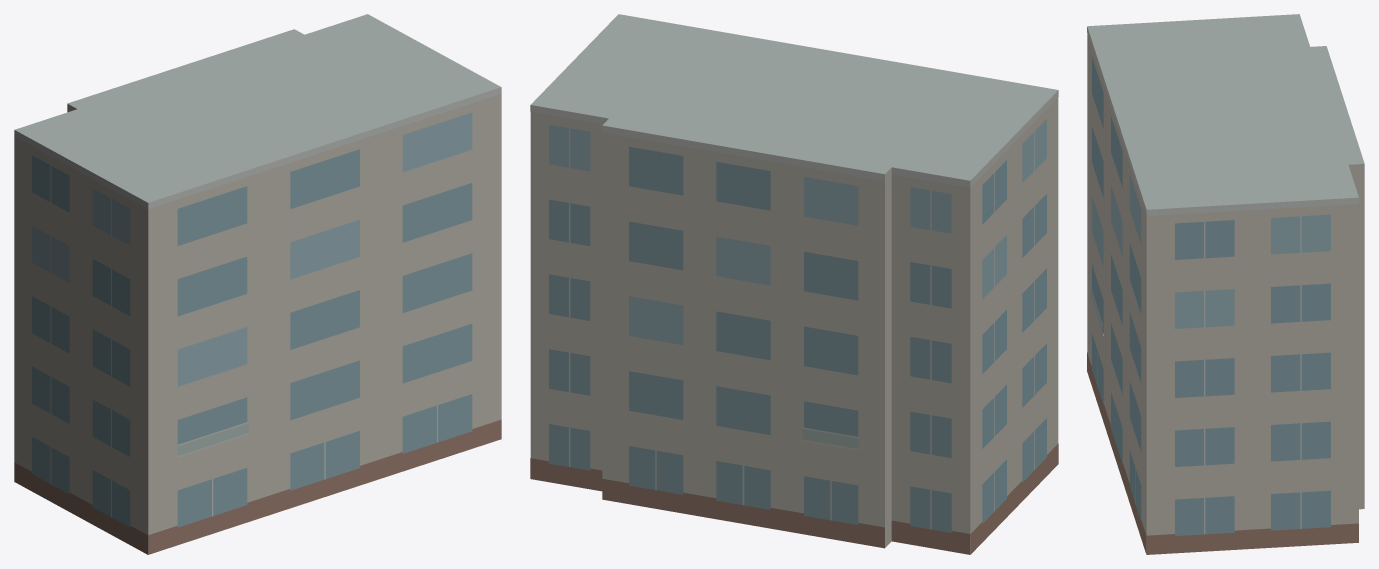
The model's file is survey-upis-32542415.glb.
The picture shows the model from 3 angles, left to right: view 1: azimuth 30°, elevation 25°; view 2: azimuth 150°, elevation 25°; view 3: azimuth 270°, elevation 25°; orthographic projection. The views are drawn at different scales.
Visible parts, largest first — view 1: survey-upis-32542415.tmp; view 2: survey-upis-32542415.tmp; view 3: survey-upis-32542415.tmp.
Part boxes in pixels (x1,y1,x2,y2): survey-upis-32542415.tmp: (14,14,501,554); survey-upis-32542415.tmp: (530,14,1058,554); survey-upis-32542415.tmp: (1087,14,1364,554).
Size of the model in its own units: 16.19 by 13.3 by 9.7.
